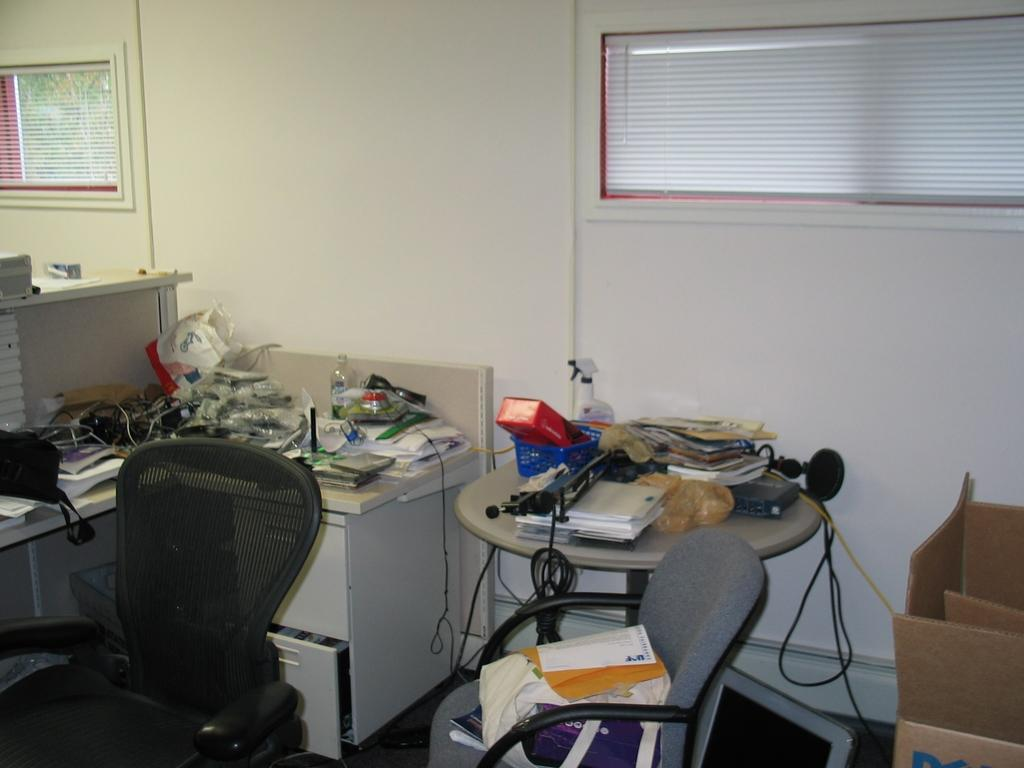Chair: (0, 435, 322, 767), (426, 526, 766, 767)
Computer-monitor: (688, 661, 859, 765)
